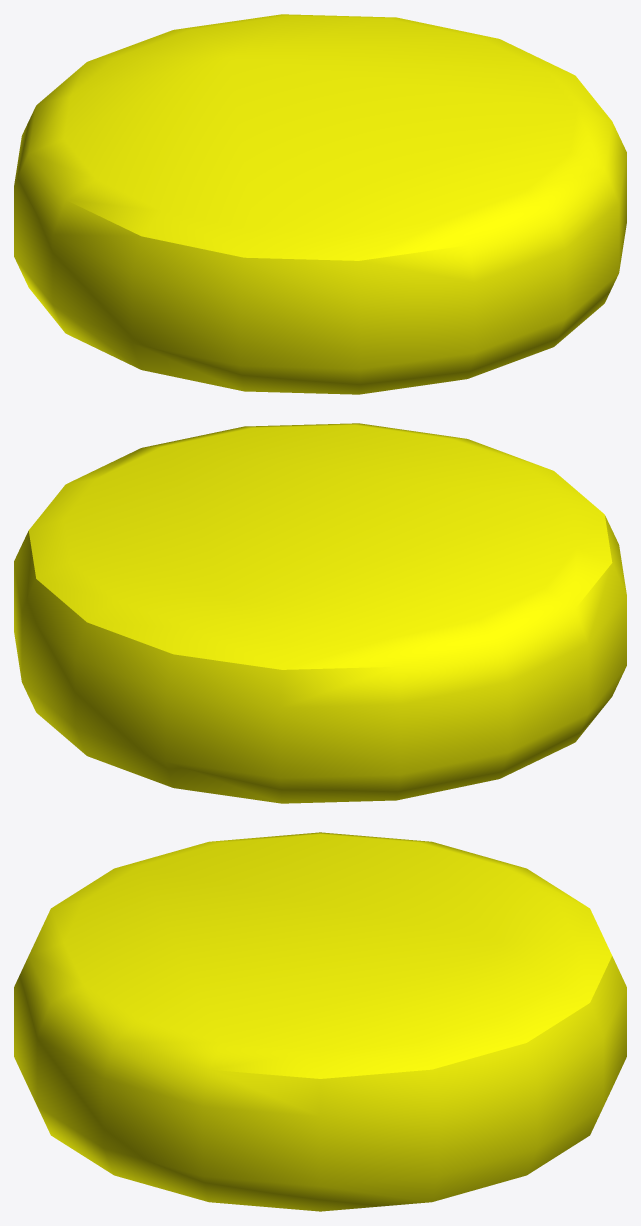
The model's file is kaykit-food-ingredient-burger-uncooked.glb.
3 views of the same model, one above another, from view 1: azimuth 30°, elevation 25°; view 2: azimuth 150°, elevation 25°; view 3: azimuth 270°, elevation 25° (orthographic).
Parts seen in each view (by area): view 1: food_ingredient_burger_uncooked; view 2: food_ingredient_burger_uncooked; view 3: food_ingredient_burger_uncooked.
Part boxes in pixels (x1,y1,x2,y2): food_ingredient_burger_uncooked: (14, 14, 626, 394); food_ingredient_burger_uncooked: (14, 423, 626, 803); food_ingredient_burger_uncooked: (14, 832, 626, 1211).
Bounding box in the file's own units: 0.7 × 0.2 × 0.7.
